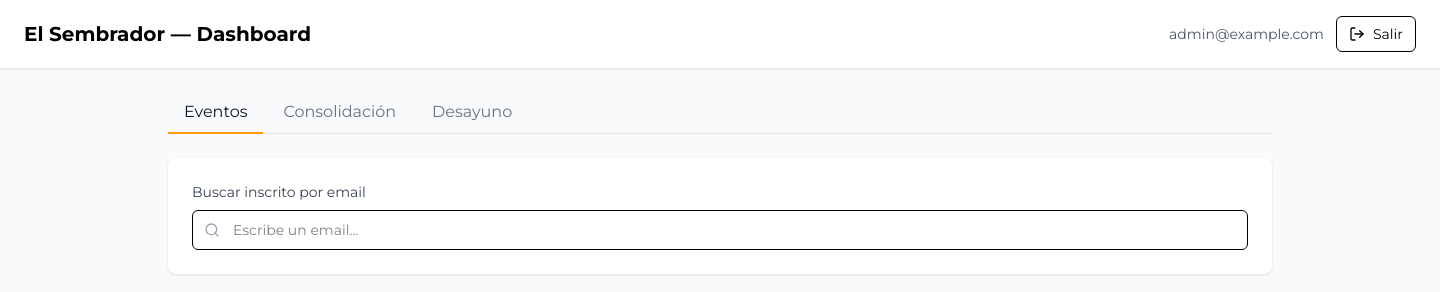
it: Dashboard shell › renders the consolidation section when its tab is activated
Click the tab "Consolidación": (340, 113) x1=268 y1=92 x2=412 y2=134
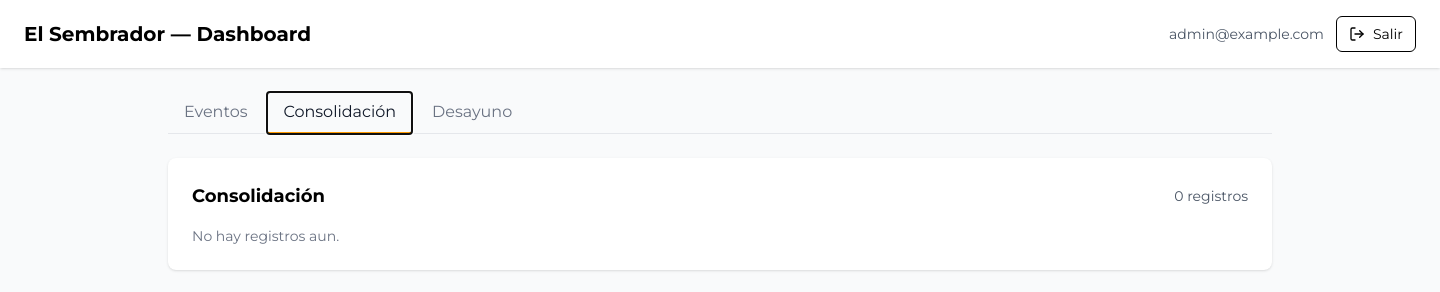
Now the heading "Consolidación" is shown, box x1=192 y1=182 x2=325 y2=210
